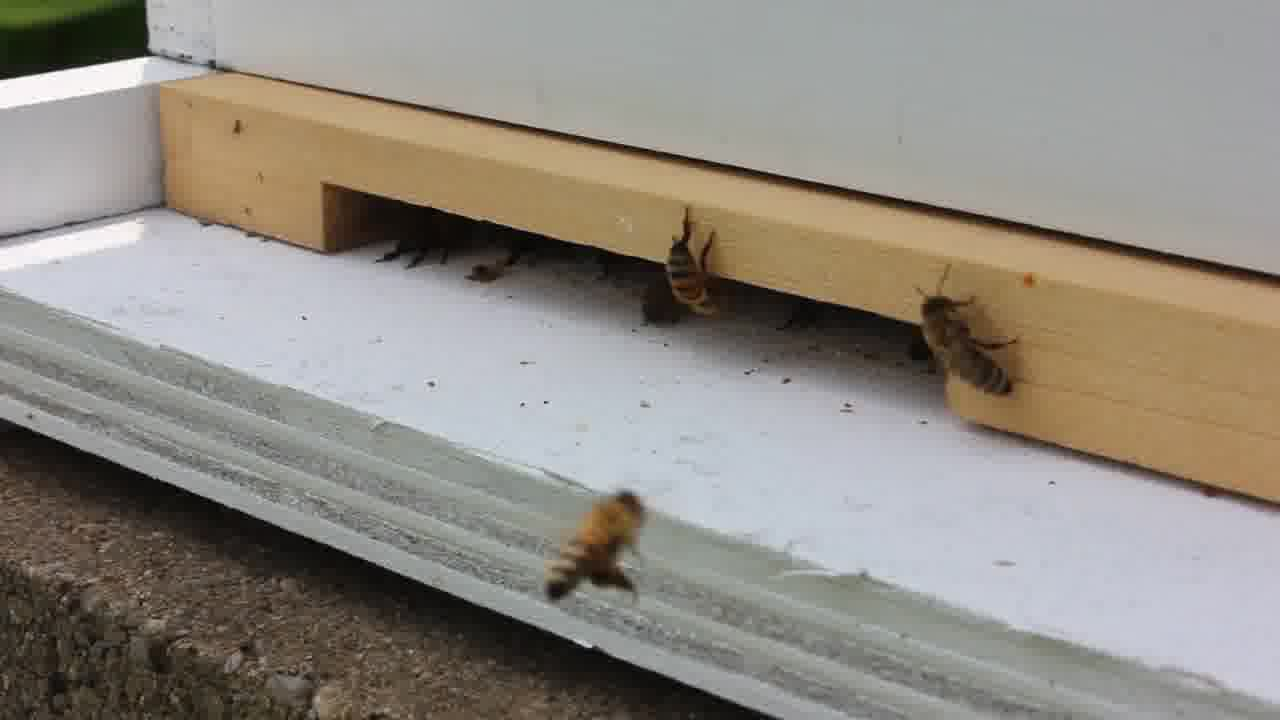pollen: (548, 491, 655, 609)
